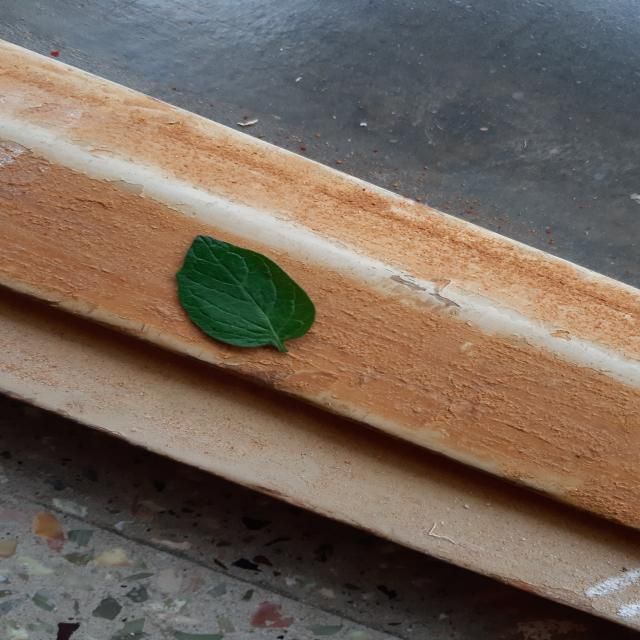tomato: (176, 235, 316, 352)
